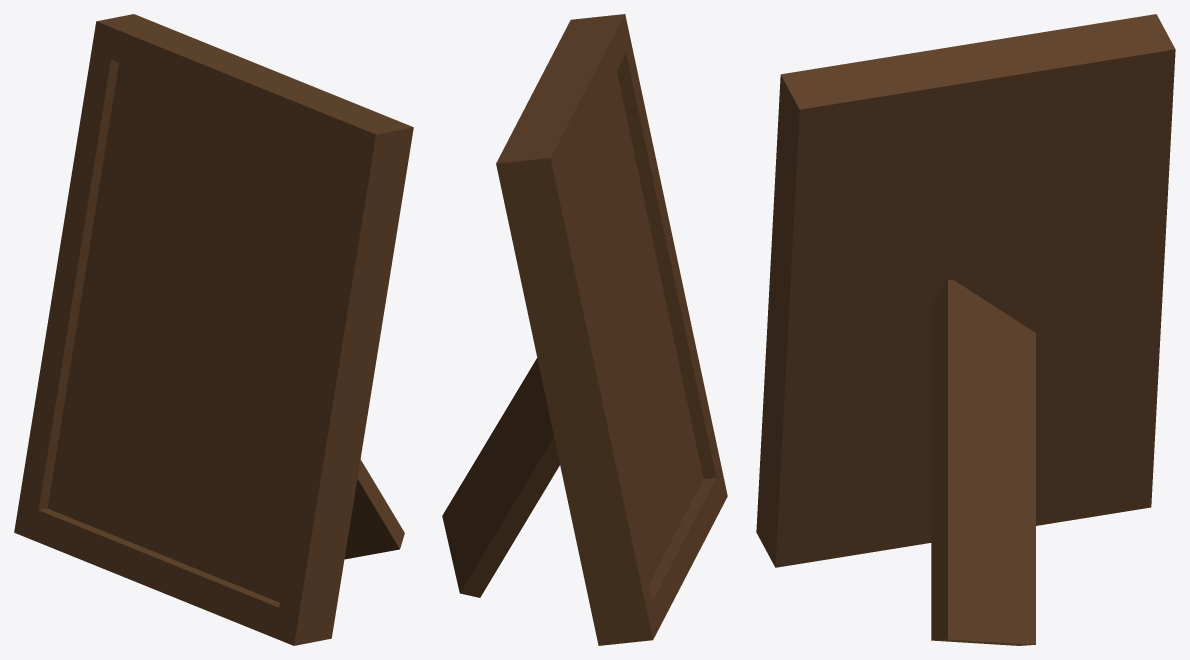
File: pictureframe.fbx
3 views of the same model, side by side, from view 1: azimuth 30°, elevation 25°; view 2: azimuth 150°, elevation 25°; view 3: azimuth 270°, elevation 25° (orthographic). The views are drawn at different scales.
Visible parts, largest first — view 1: Cube.109, Cube.110; view 2: Cube.109, Cube.110; view 3: Cube.109, Cube.110.
Part boxes in pixels (bbox=[...]): Cube.109: bbox=[14, 14, 413, 645]; Cube.110: bbox=[156, 330, 404, 559]; Cube.109: bbox=[496, 14, 727, 645]; Cube.110: bbox=[442, 358, 618, 597]; Cube.109: bbox=[756, 14, 1175, 567]; Cube.110: bbox=[931, 280, 1035, 645].
Bounding box in the file's own units: 152 × 254 × 172.
